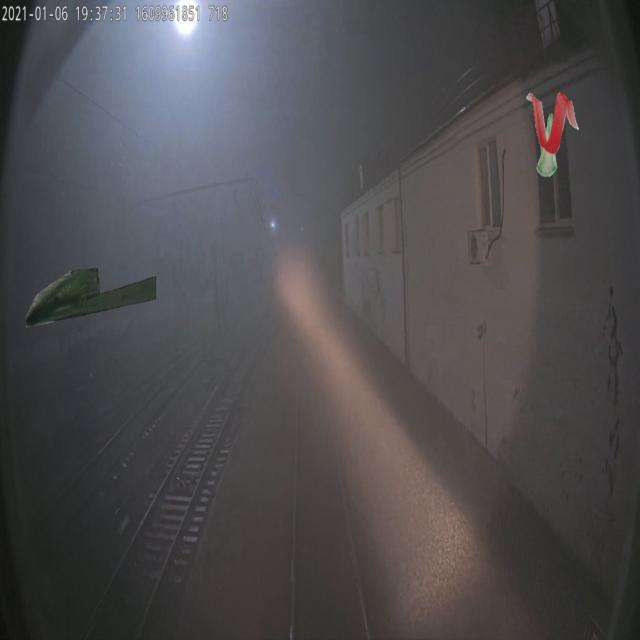floating object: (26, 264, 156, 328), (526, 90, 580, 154)
plastic bag: (535, 112, 557, 176)
